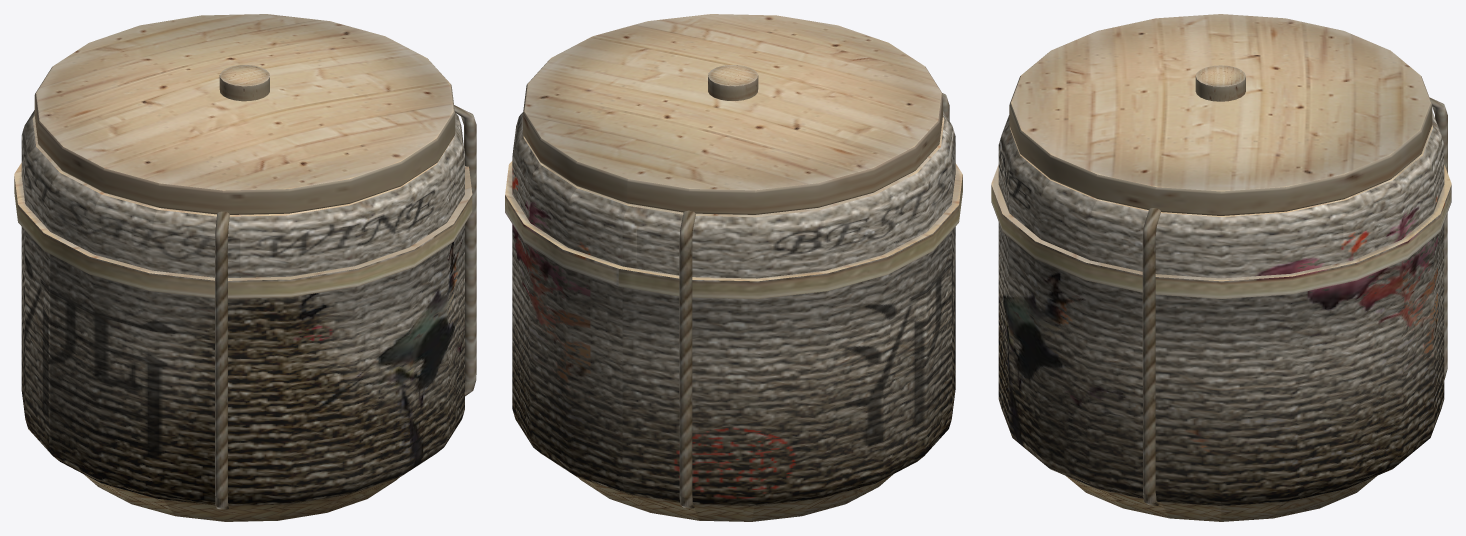
Rendered from SakeBarrel.fbx.
The picture shows the model from 3 angles, left to right: view 1: azimuth 30°, elevation 25°; view 2: azimuth 150°, elevation 25°; view 3: azimuth 270°, elevation 25°; orthographic projection.
Parts seen in each view (by area): view 1: SakeBarrel1; view 2: SakeBarrel1; view 3: SakeBarrel1.
Boxes of the visible parts, box(x1,y1,x2,y2) form: SakeBarrel1: box(14, 14, 476, 521); SakeBarrel1: box(505, 14, 962, 521); SakeBarrel1: box(991, 14, 1451, 521).
Size of the model in its own units: 25.11 by 22.62 by 25.11.
